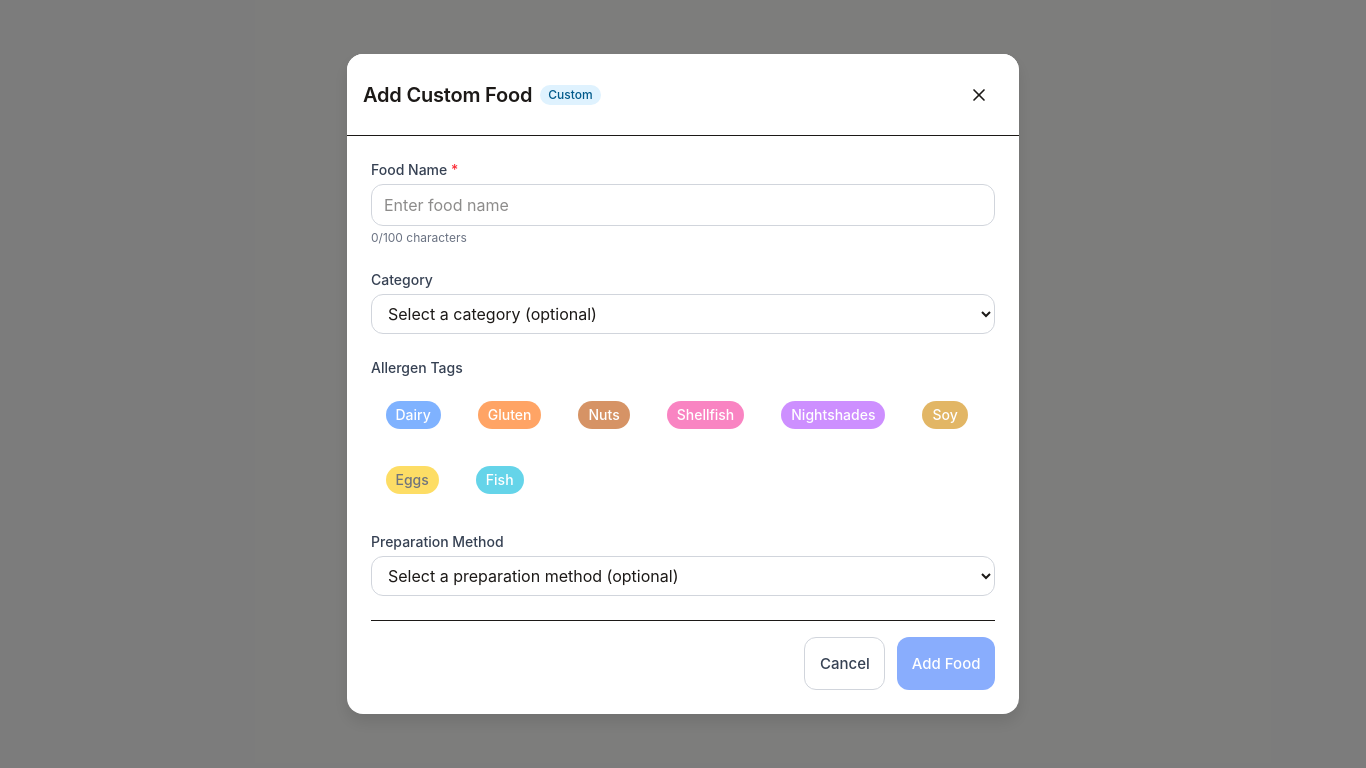
Test: AddFoodModal › Allergen Selection › allows selecting multiple allergens
Click the button with aria-label "select dairy allergen". click: (413, 415)
box: [371, 386, 455, 443]
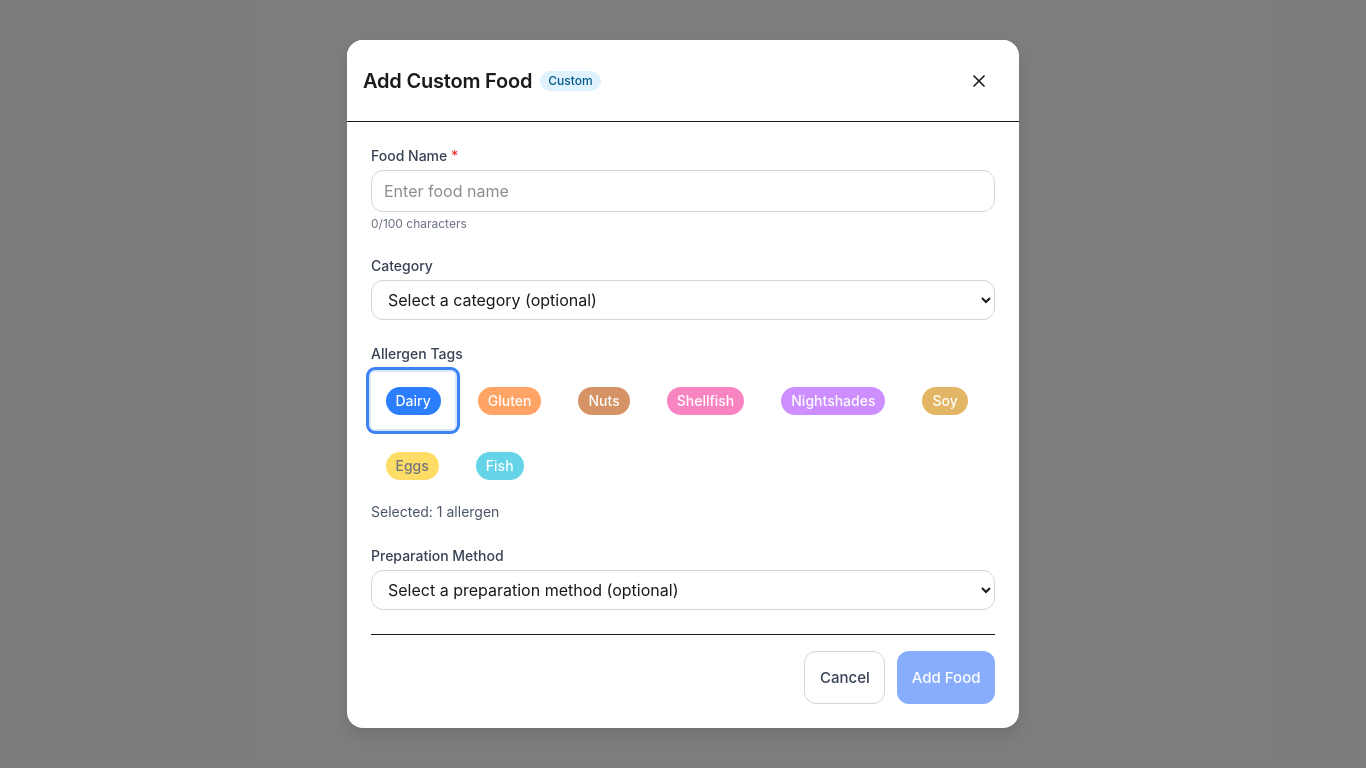
Click the button with aria-label "select gluten allergen". click: (510, 401)
box: [463, 372, 556, 429]
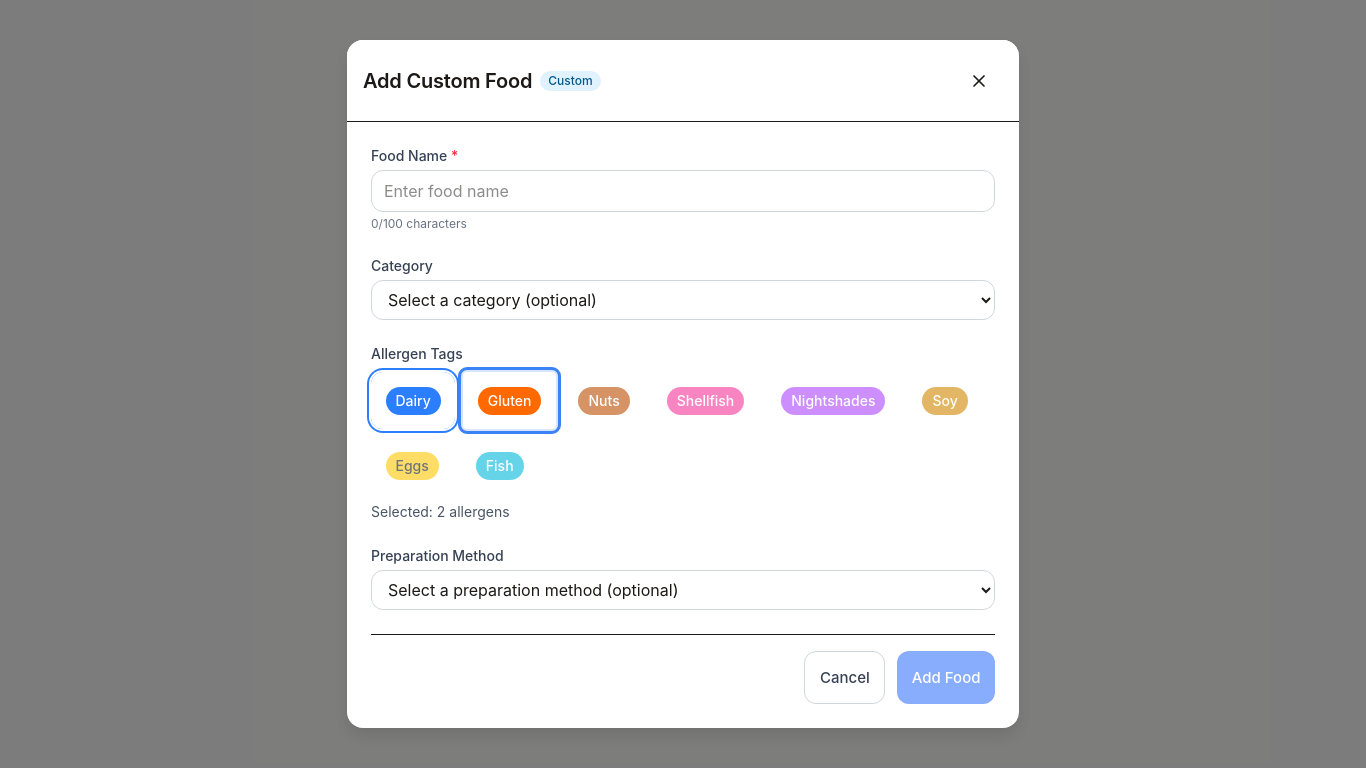
Expected: the text "Selected: 2 allergens" is shown, [371, 503, 510, 520]
